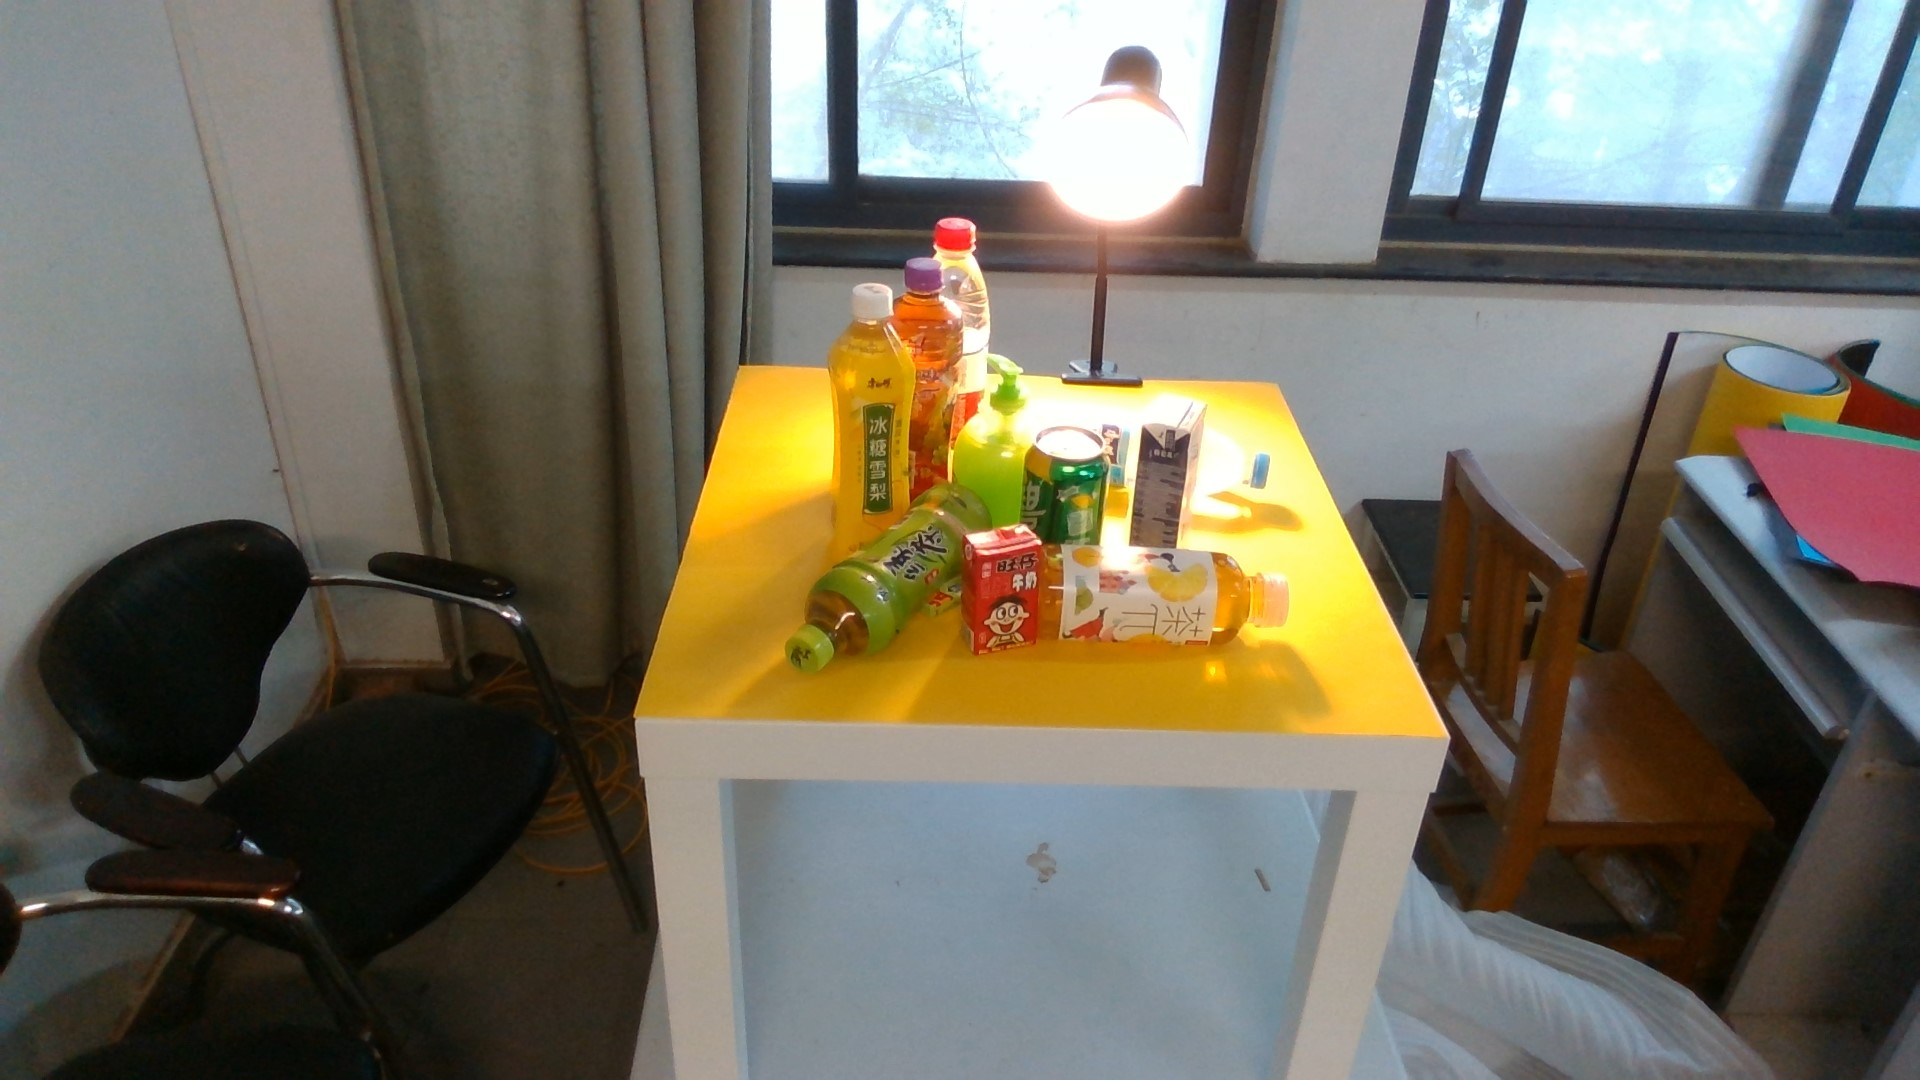BB002: (927, 578, 963, 620)
BB010: (1133, 389, 1207, 542)
BB012: (965, 524, 1038, 653)
ZA002: (957, 404, 1022, 487)
ZC001: (1021, 429, 1108, 545)
ZC009: (915, 256, 957, 477)
ZC010: (787, 509, 927, 676)
ZC011: (829, 282, 911, 513)
ZC012: (1040, 545, 1286, 645)
ZC014: (959, 214, 992, 406)
ZC019: (1197, 433, 1269, 500)
